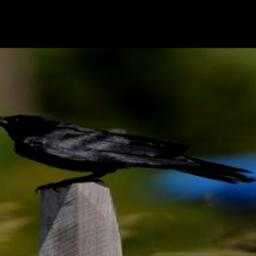Crow: (0, 113, 256, 194)
